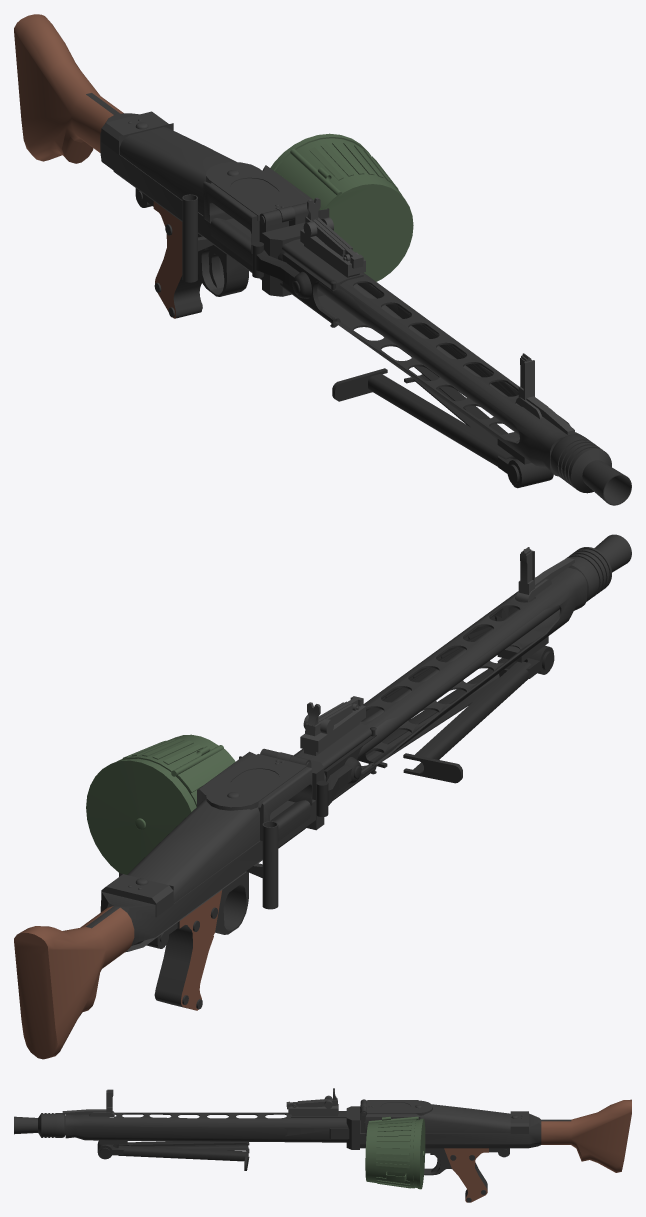
3 views of the same model, one above another, from view 1: azimuth 30°, elevation 25°; view 2: azimuth 150°, elevation 25°; view 3: azimuth 270°, elevation 25° (orthographic). The views are drawn at different scales.
Parts seen in each view (by area): view 1: Machinegun, LoadingDoor, DrumMagazine, BipodLeg_right, IronSights, InternalBarrel, BarrelPort, Bolt, BipodLeg_left, Bipod; view 2: Machinegun, LoadingDoor, DrumMagazine, BipodLeg_right, IronSights, InternalBarrel, BipodLeg_left, BarrelPort, Bolt, Bipod; view 3: Machinegun, DrumMagazine, LoadingDoor, BipodLeg_left, IronSights, BipodLeg_right, Bipod.
Boxes of the visible parts, bbox=[...] form: Machinegun: bbox=[14, 14, 631, 505]; LoadingDoor: bbox=[101, 111, 329, 253]; DrumMagazine: bbox=[270, 133, 413, 281]; BipodLeg_right: bbox=[332, 368, 513, 466]; IronSights: bbox=[300, 197, 574, 434]; InternalBarrel: bbox=[317, 282, 520, 435]; BarrelPort: bbox=[252, 241, 337, 327]; Bolt: bbox=[182, 194, 214, 282]; BipodLeg_left: bbox=[404, 366, 515, 459]; Bipod: bbox=[497, 455, 553, 488]; Machinegun: bbox=[14, 534, 631, 1059]; LoadingDoor: bbox=[101, 751, 312, 917]; DrumMagazine: bbox=[86, 734, 235, 874]; BipodLeg_right: bbox=[403, 661, 531, 783]; IronSights: bbox=[300, 547, 574, 755]; InternalBarrel: bbox=[357, 598, 559, 758]; BipodLeg_left: bbox=[357, 658, 515, 768]; BarrelPort: bbox=[316, 727, 376, 816]; Bolt: bbox=[246, 821, 278, 909]; Bipod: bbox=[497, 645, 554, 678]; Machinegun: bbox=[14, 1099, 631, 1202]; DrumMagazine: bbox=[365, 1116, 425, 1189]; LoadingDoor: bbox=[360, 1100, 528, 1135]; BipodLeg_left: bbox=[118, 1145, 249, 1170]; IronSights: bbox=[62, 1088, 338, 1116]; BipodLeg_right: bbox=[119, 1141, 249, 1152]; Bipod: bbox=[97, 1141, 130, 1159].
Bounding box in the file's own units: 87.13 × 81.65 × 416.
